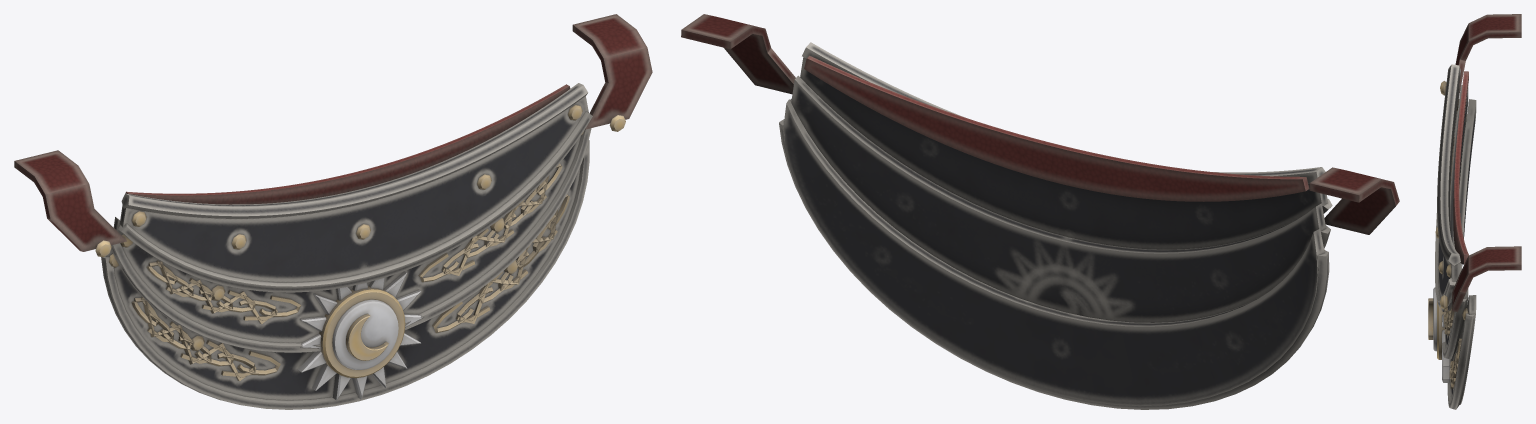
Rendered from NHAcc_Gorget.fbx.
3 views of the same model, side by side, from view 1: azimuth 30°, elevation 25°; view 2: azimuth 150°, elevation 25°; view 3: azimuth 270°, elevation 25° (orthographic). The views are drawn at different scales.
Visible parts, largest first — view 1: Gorget; view 2: Gorget; view 3: Gorget.
Boxes of the visible parts, left/top/right/bottom form: Gorget: left=14, top=14, right=652, bottom=409; Gorget: left=681, top=14, right=1399, bottom=409; Gorget: left=1428, top=14, right=1521, bottom=409.
Size of the model in its own units: 0.96 by 0.433 by 0.151.
